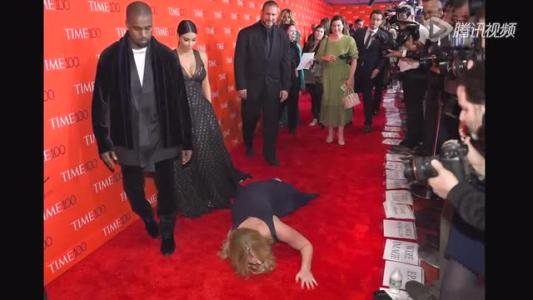10+: (88, 2, 485, 296)
down: (216, 172, 327, 293)
